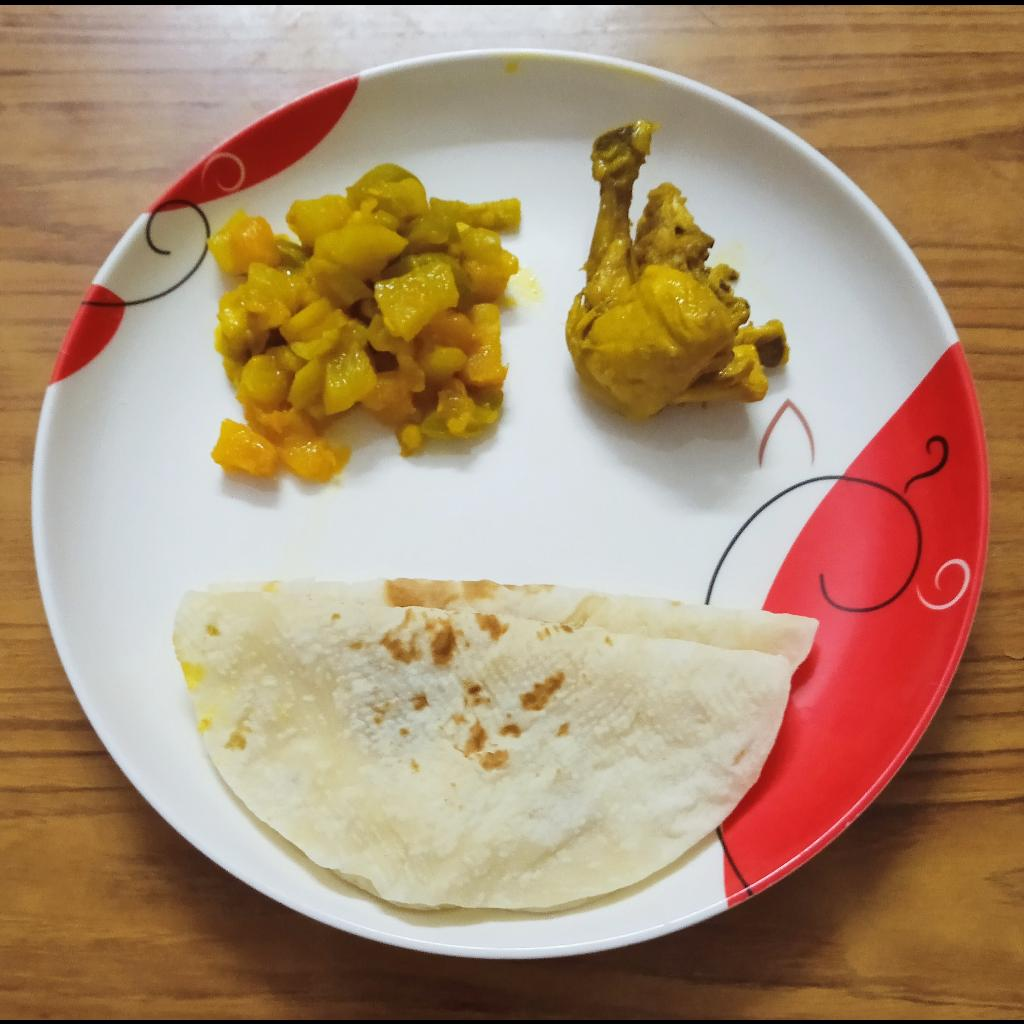chicken: (563, 121, 792, 419)
ruti: (172, 576, 824, 916)
vegetable: (206, 156, 524, 481)
